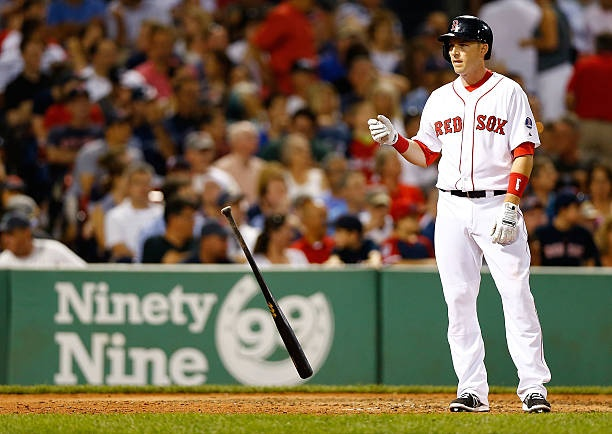bita: (220, 207, 316, 379)
